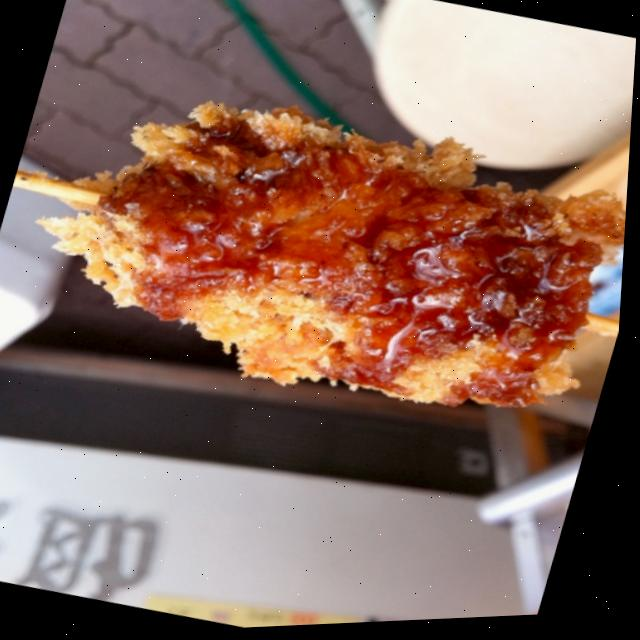蔬菜料理: (0, 38, 637, 640)
